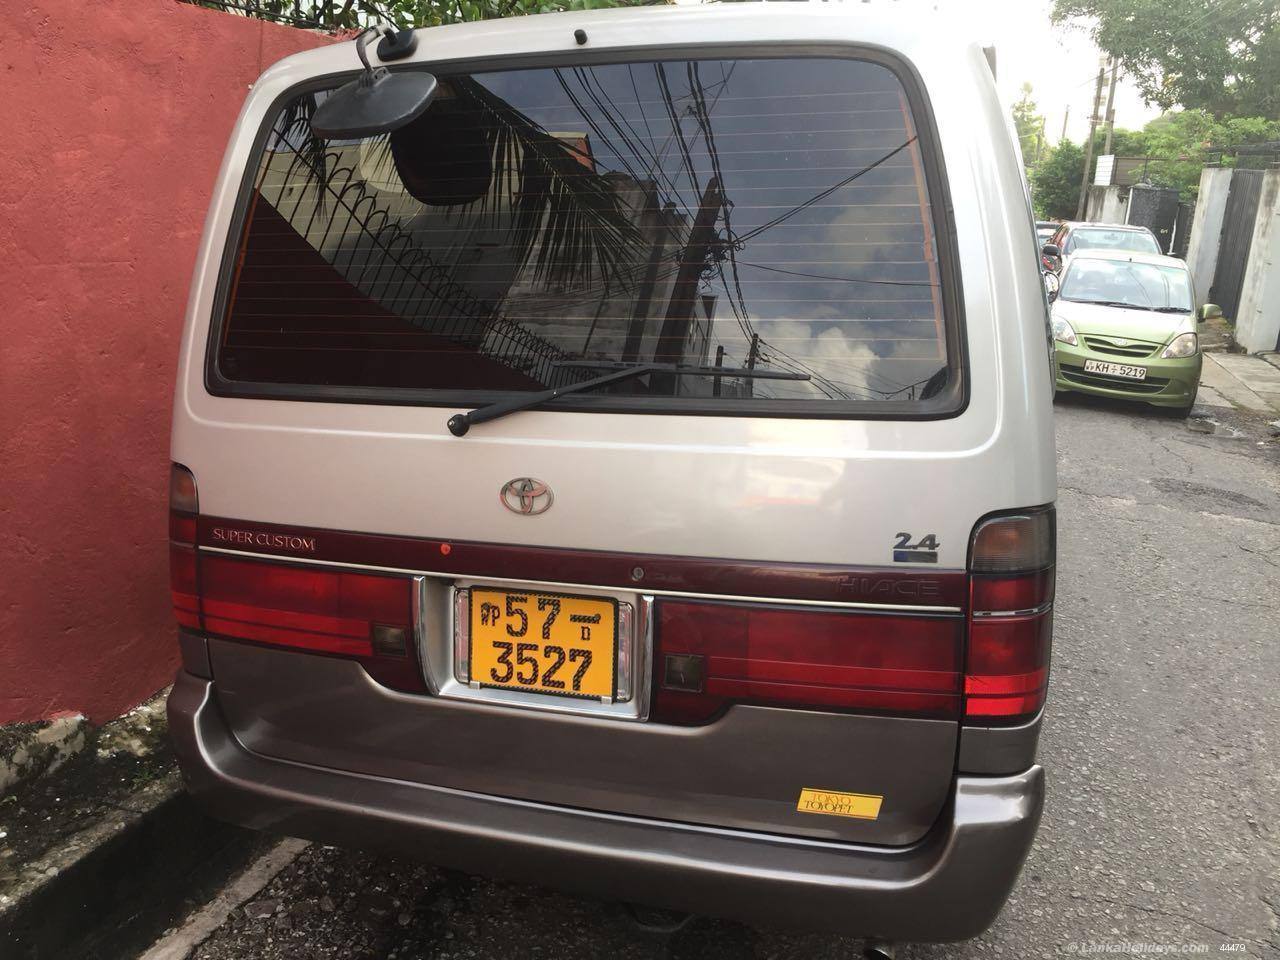license-plate: (471, 586, 620, 697)
